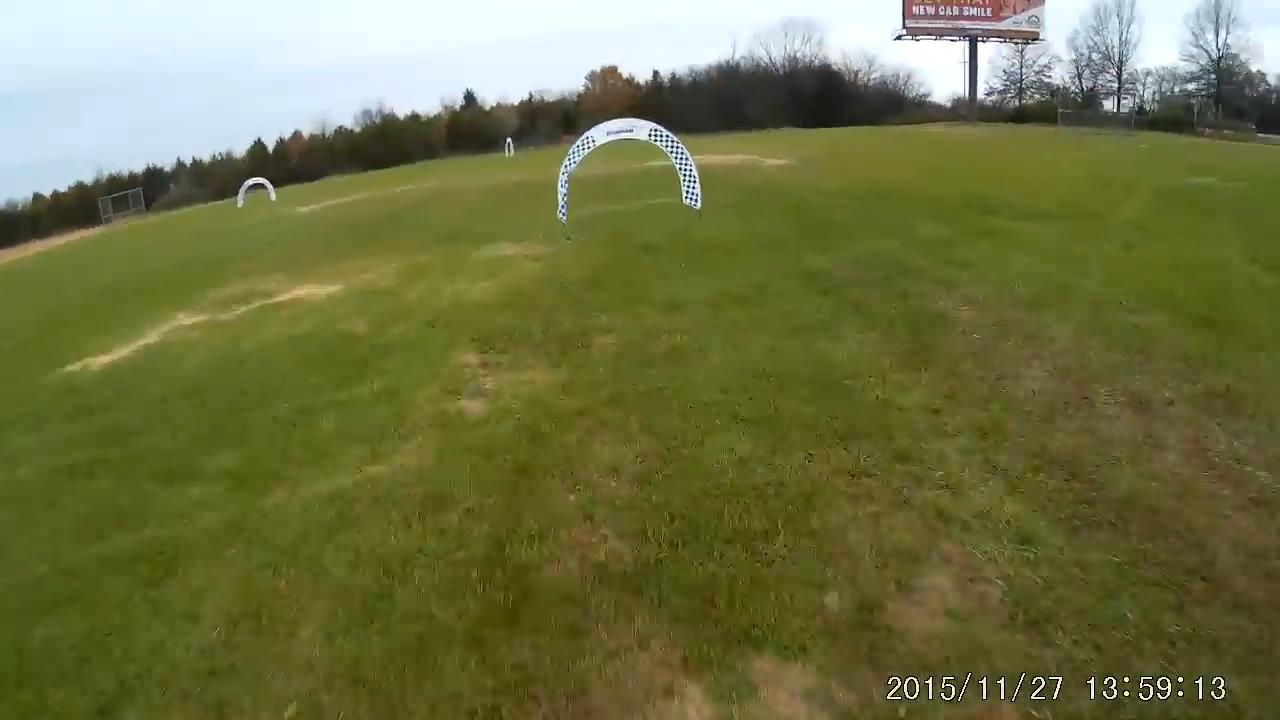gate: (555, 115, 706, 223)
